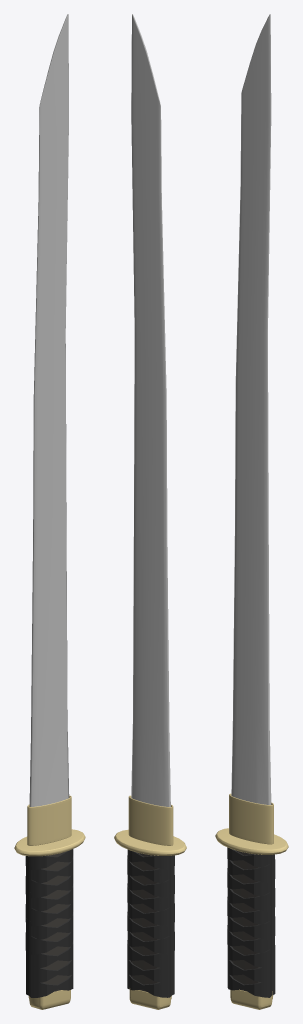
File: ESPADA_F_F.fbx
3 views of the same model, side by side, from view 1: azimuth 30°, elevation 25°; view 2: azimuth 150°, elevation 25°; view 3: azimuth 330°, elevation 25° (orthographic).
Visible parts, largest first — view 1: Espada1; view 2: Espada1; view 3: Espada1.
Part boxes in pixels (bbox=[...]): Espada1: bbox=[14, 14, 85, 1009]; Espada1: bbox=[114, 14, 186, 1009]; Espada1: bbox=[215, 14, 288, 1009].
Size of the model in its own units: 1.83 by 25.18 by 1.06.
